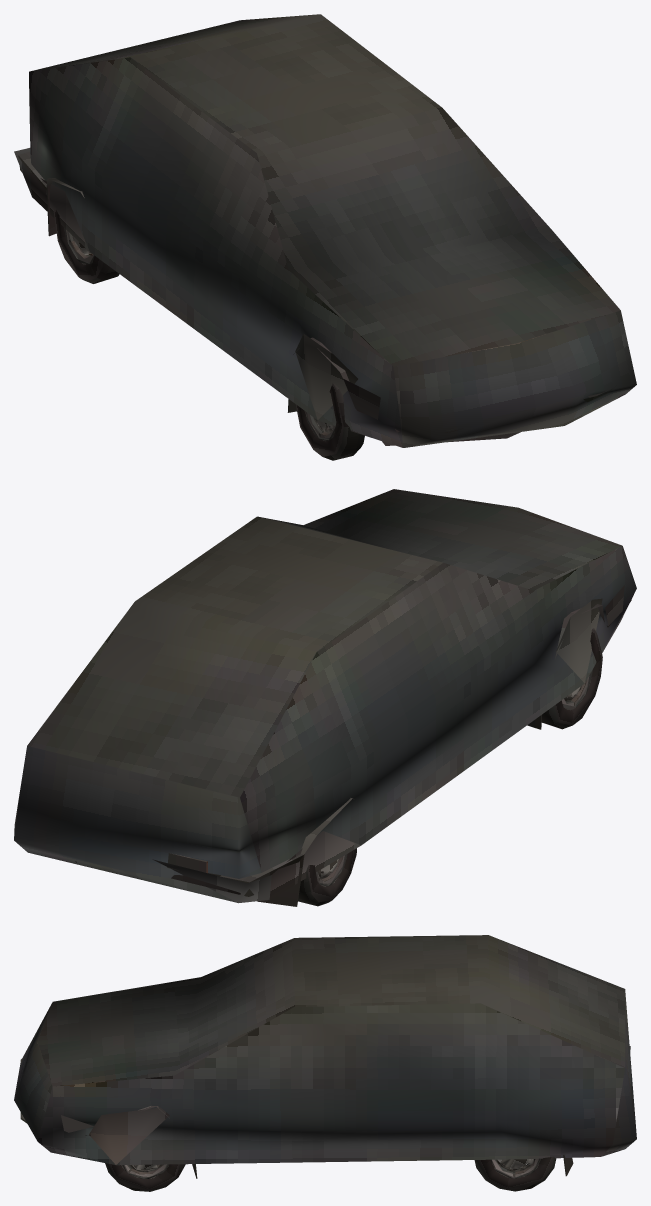
File: covered_car.glb
3 views of the same model, one above another, from view 1: azimuth 30°, elevation 25°; view 2: azimuth 150°, elevation 25°; view 3: azimuth 270°, elevation 25° (orthographic). The views are drawn at different scales.
Parts seen in each view (by area): view 1: covered_car, covered_car_wheel_02, covered_car_wheel_03; view 2: covered_car, covered_car_wheel_02, covered_car_wheel_03; view 3: covered_car, covered_car_wheel_04, covered_car_wheel_01.
Part boxes in pixels (x1,y1,x2,y2): covered_car: [14, 14, 636, 447]; covered_car_wheel_02: [295, 383, 364, 460]; covered_car_wheel_03: [53, 208, 119, 283]; covered_car: [14, 489, 636, 906]; covered_car_wheel_02: [541, 628, 602, 729]; covered_car_wheel_03: [298, 848, 356, 906]; covered_car: [14, 935, 636, 1178]; covered_car_wheel_04: [474, 1156, 556, 1191]; covered_car_wheel_01: [105, 1163, 185, 1191].
Size of the model in its own units: 1.74 by 1.36 by 4.34.
1 material, 1 textured.
